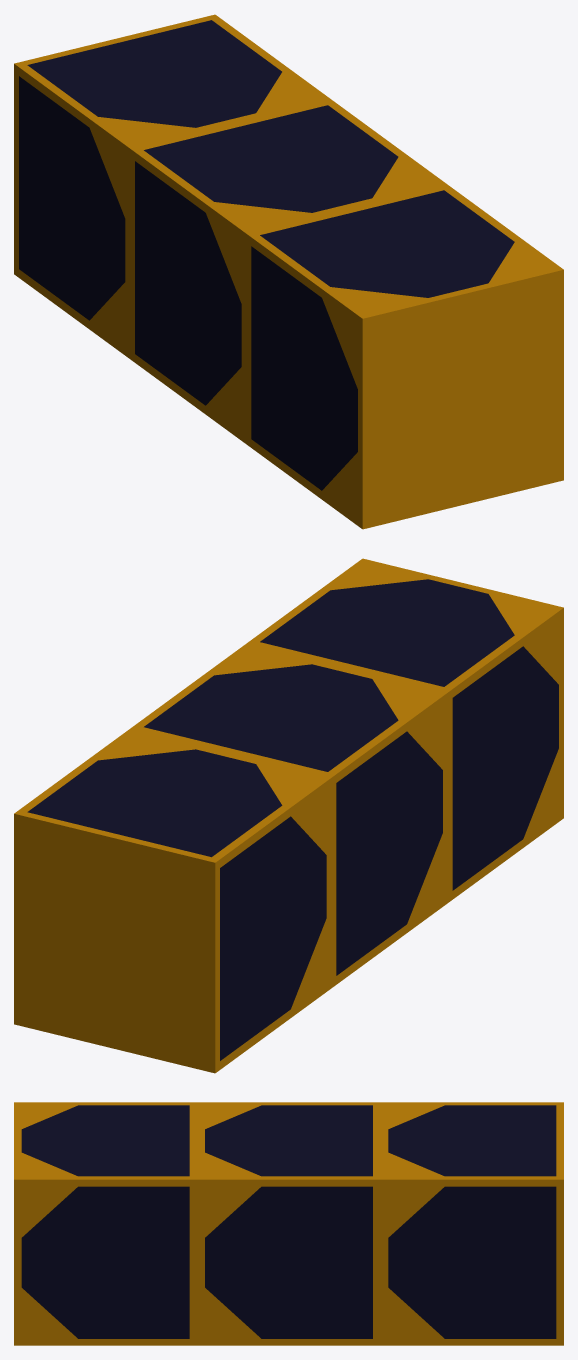
The model's file is Cubesat_3U.obj.
The picture shows the model from 3 angles, top to bottom: view 1: azimuth 30°, elevation 25°; view 2: azimuth 150°, elevation 25°; view 3: azimuth 270°, elevation 25°; orthographic projection. The views are drawn at different scales.
Visible parts, largest first — view 1: Cube1_CUBE_BLUE, Cube1_GOLD_KAPTON; view 2: Cube1_CUBE_BLUE, Cube1_GOLD_KAPTON; view 3: Cube1_CUBE_BLUE, Cube1_GOLD_KAPTON.
Part boxes in pixels (bbox=[...]): Cube1_CUBE_BLUE: bbox=[19, 20, 514, 490]; Cube1_GOLD_KAPTON: bbox=[14, 14, 563, 529]; Cube1_CUBE_BLUE: bbox=[27, 579, 558, 1060]; Cube1_GOLD_KAPTON: bbox=[14, 558, 563, 1073]; Cube1_CUBE_BLUE: bbox=[21, 1105, 556, 1338]; Cube1_GOLD_KAPTON: bbox=[14, 1102, 563, 1345].
Size of the model in its own units: 0.1 by 0.1 by 0.3.
